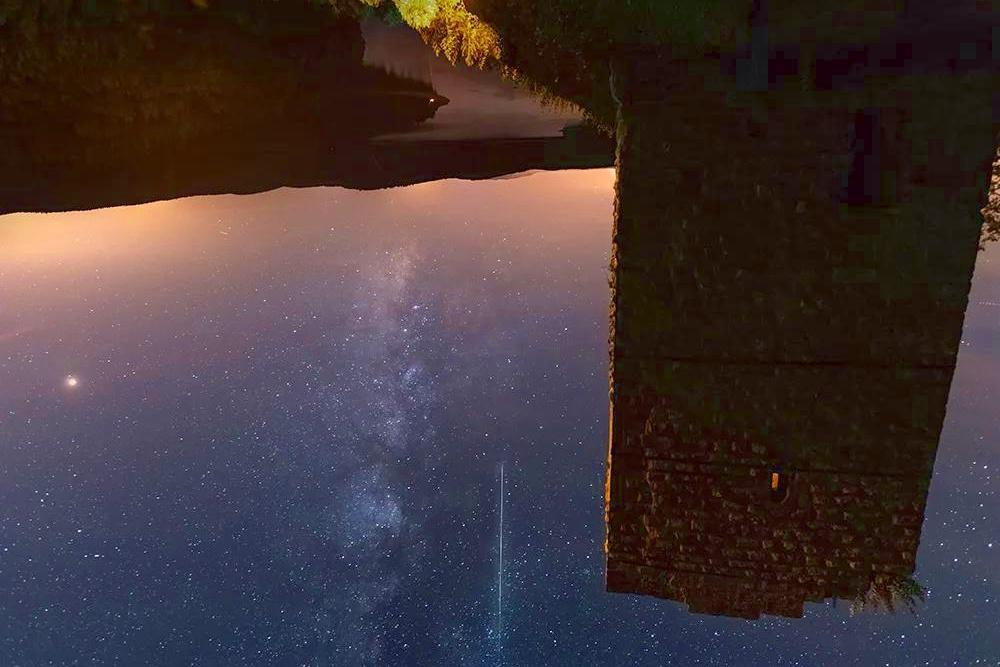meteorite: (469, 454, 513, 667)
